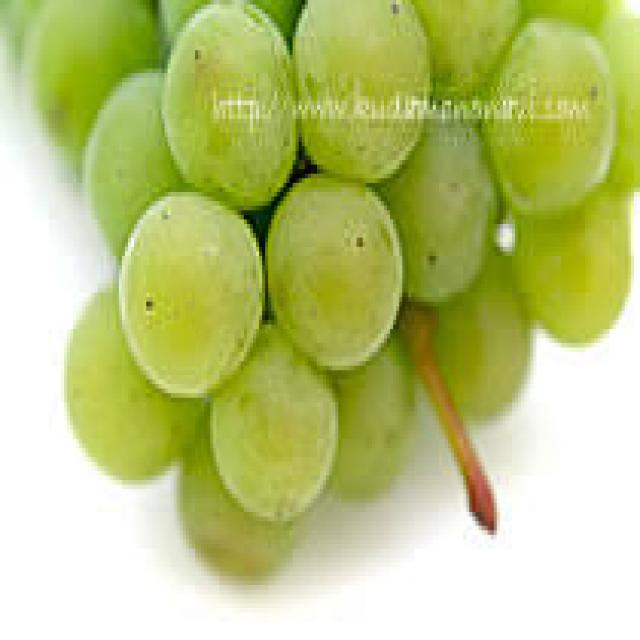organic waste: (116, 188, 265, 393), (156, 0, 292, 206), (262, 169, 399, 366), (482, 14, 610, 210), (372, 87, 491, 297), (204, 324, 332, 516), (290, 0, 430, 174), (64, 288, 195, 471), (22, 0, 162, 160), (174, 402, 296, 576), (421, 238, 527, 420), (82, 68, 183, 252), (509, 197, 625, 338), (326, 324, 415, 493), (405, 0, 514, 91), (597, 0, 637, 197), (518, 0, 610, 41)
